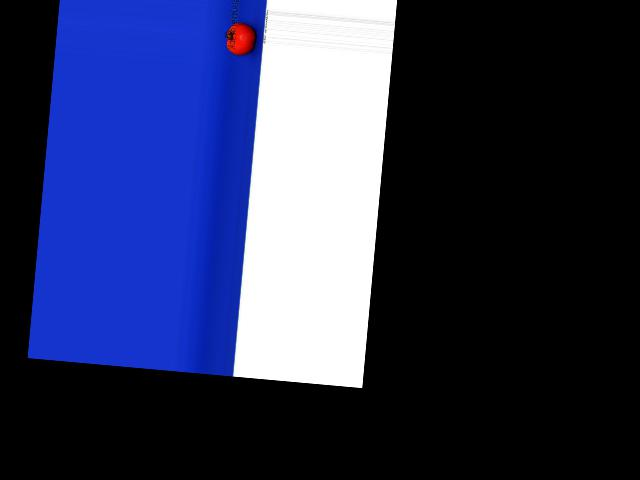tomato: (225, 22, 256, 57)
